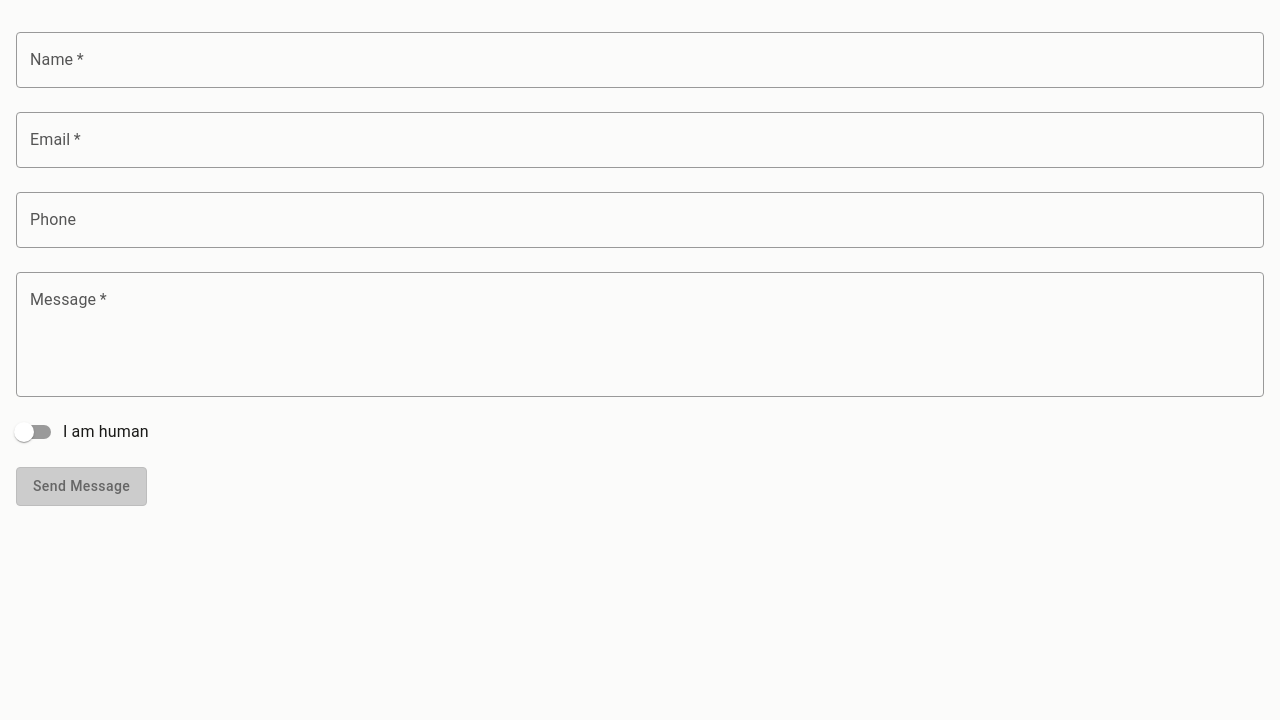
Test: ContactForm › shows error message on failed submit
Type "John Doe" into the field labelled "Name *".
click(640, 60); type("John Doe")  # box x1=16 y1=32 x2=1264 y2=88
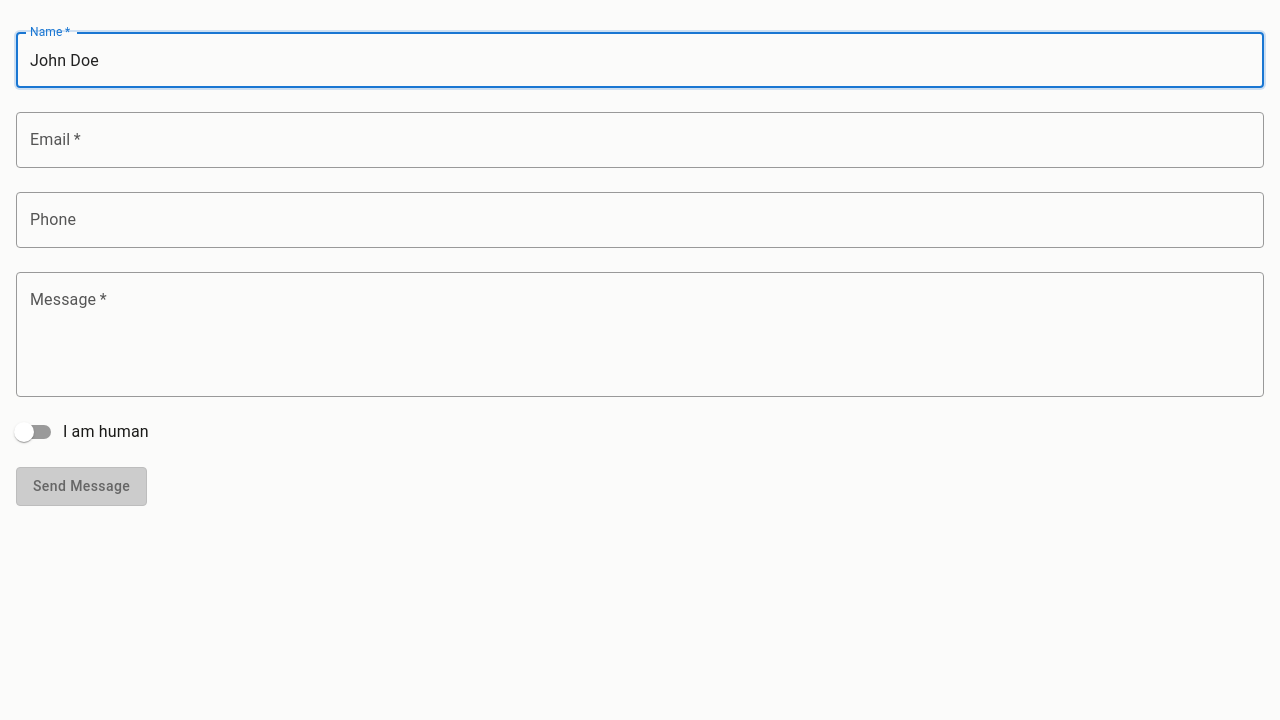
Type "john@example.com" into the field labelled "Email *".
click(640, 140); type("john@example.com")  # box x1=16 y1=112 x2=1264 y2=168
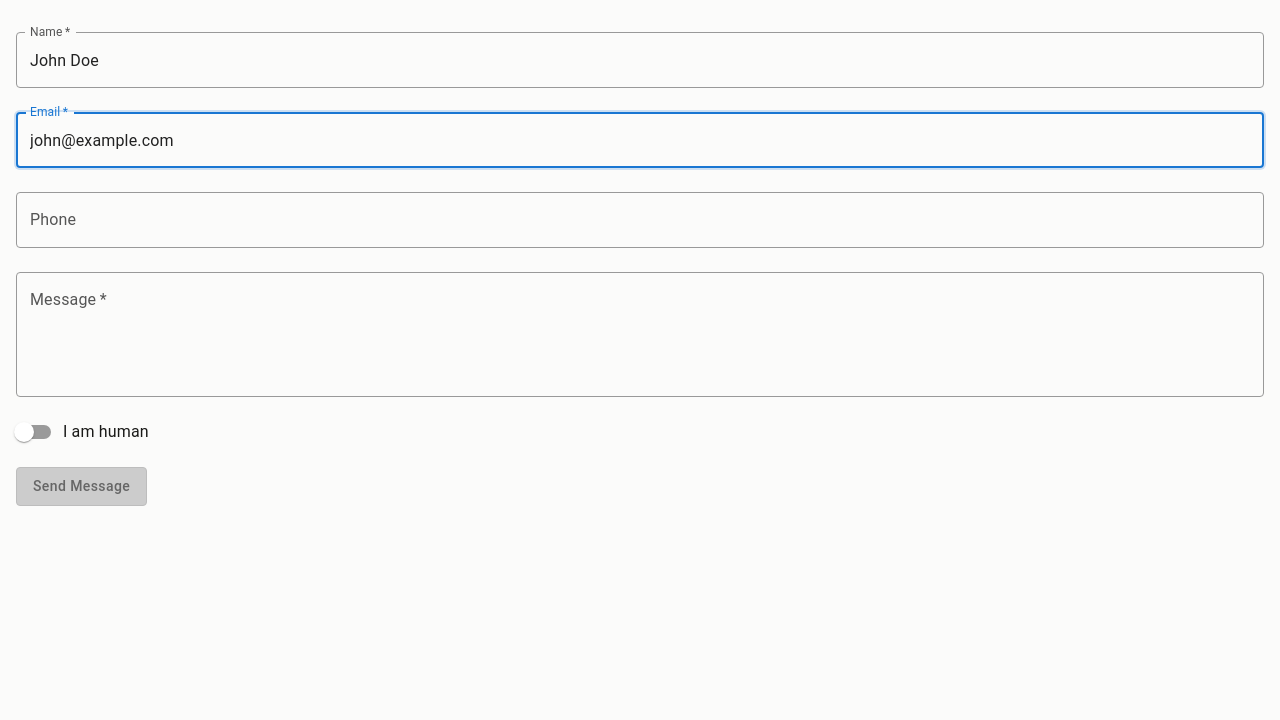
Type "Hello there!" into the text box labelled "Message *".
click(640, 334); type("Hello there!")  # box x1=30 y1=288 x2=1250 y2=380
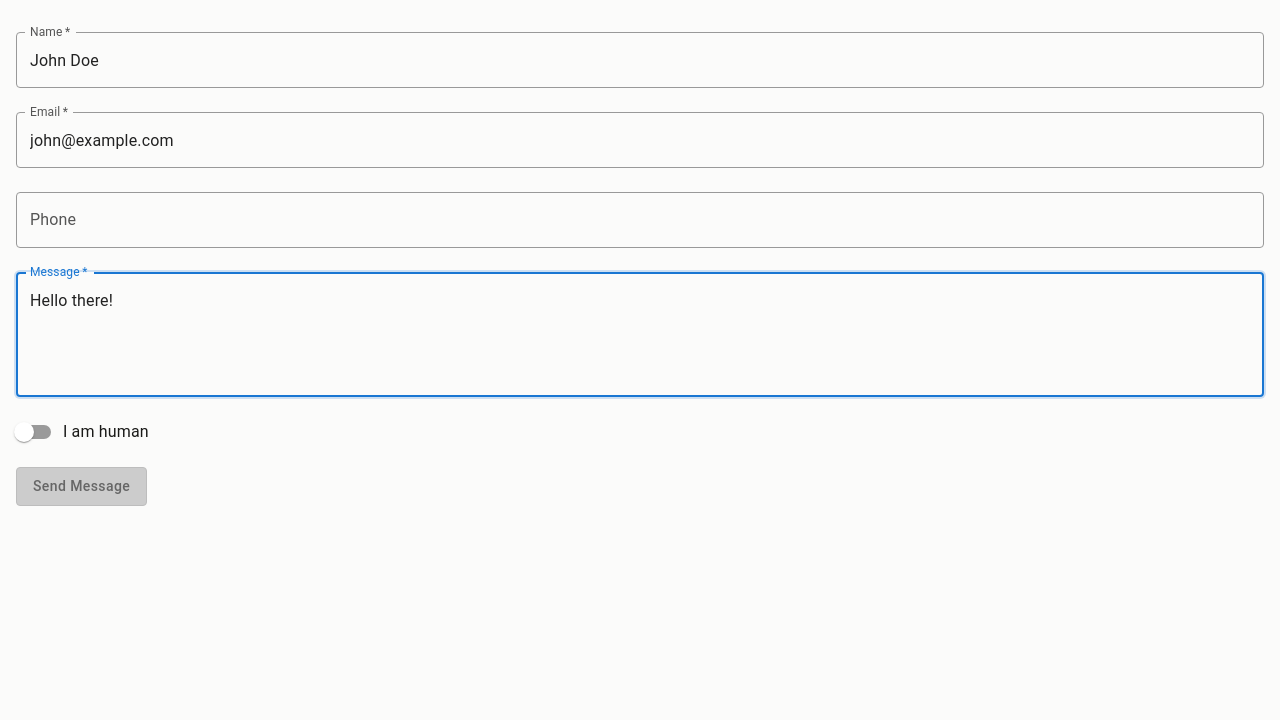
Click the switch labelled "I am human".
click(81, 432)  # box x1=14 y1=422 x2=149 y2=442
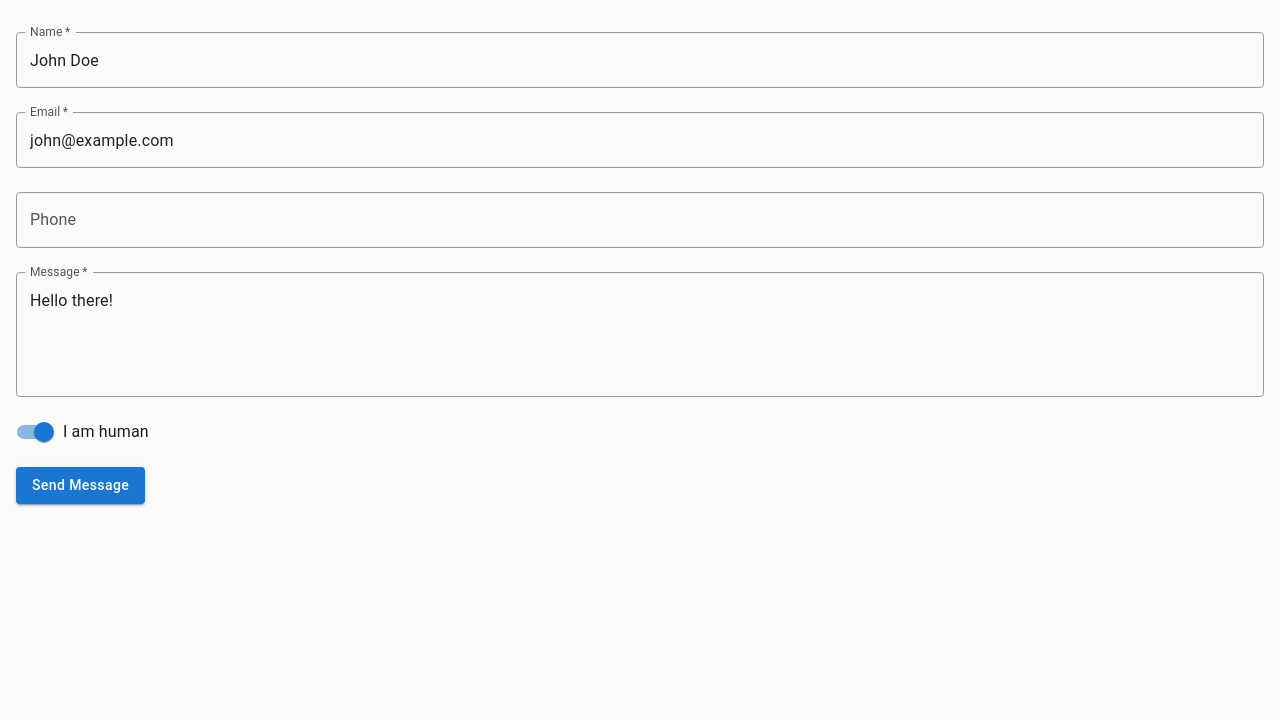
Result: the button "Send Message" is enabled
Click the button "Send Message".
click(81, 485)  # box x1=16 y1=467 x2=145 y2=504
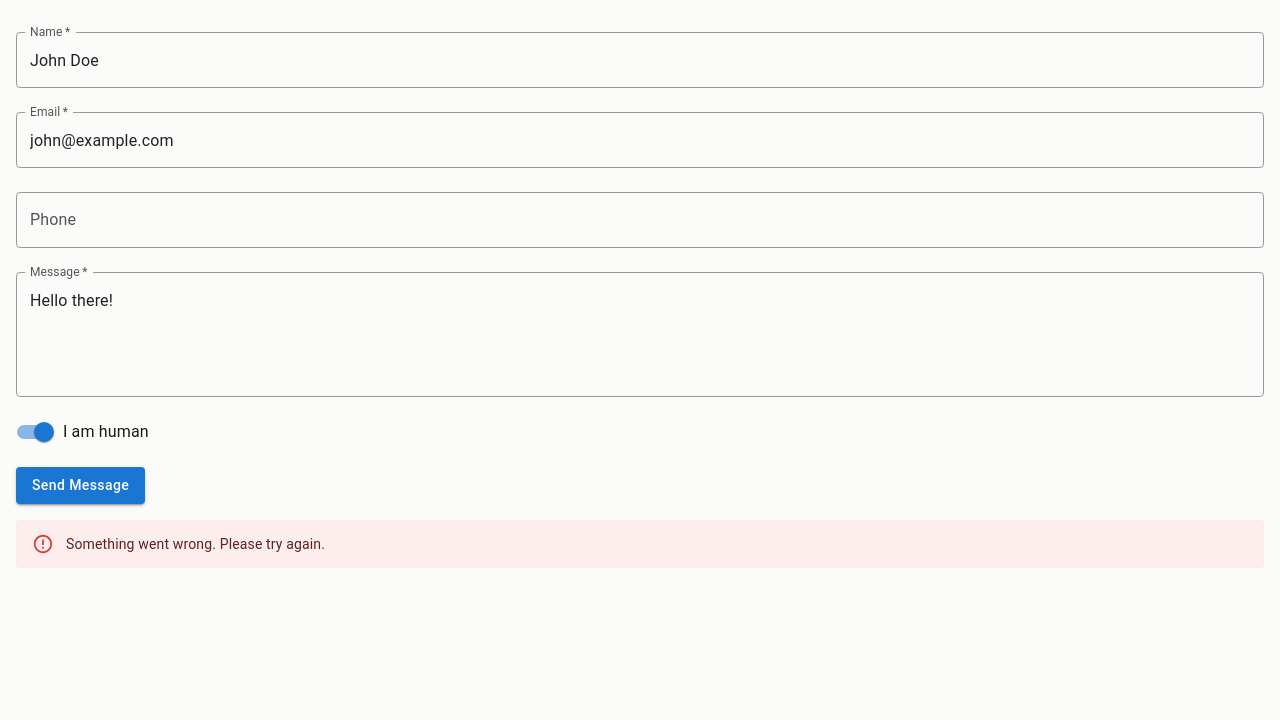
Result: the text "Something went wrong. Please try again." is shown at x1=66 y1=536 x2=325 y2=552
